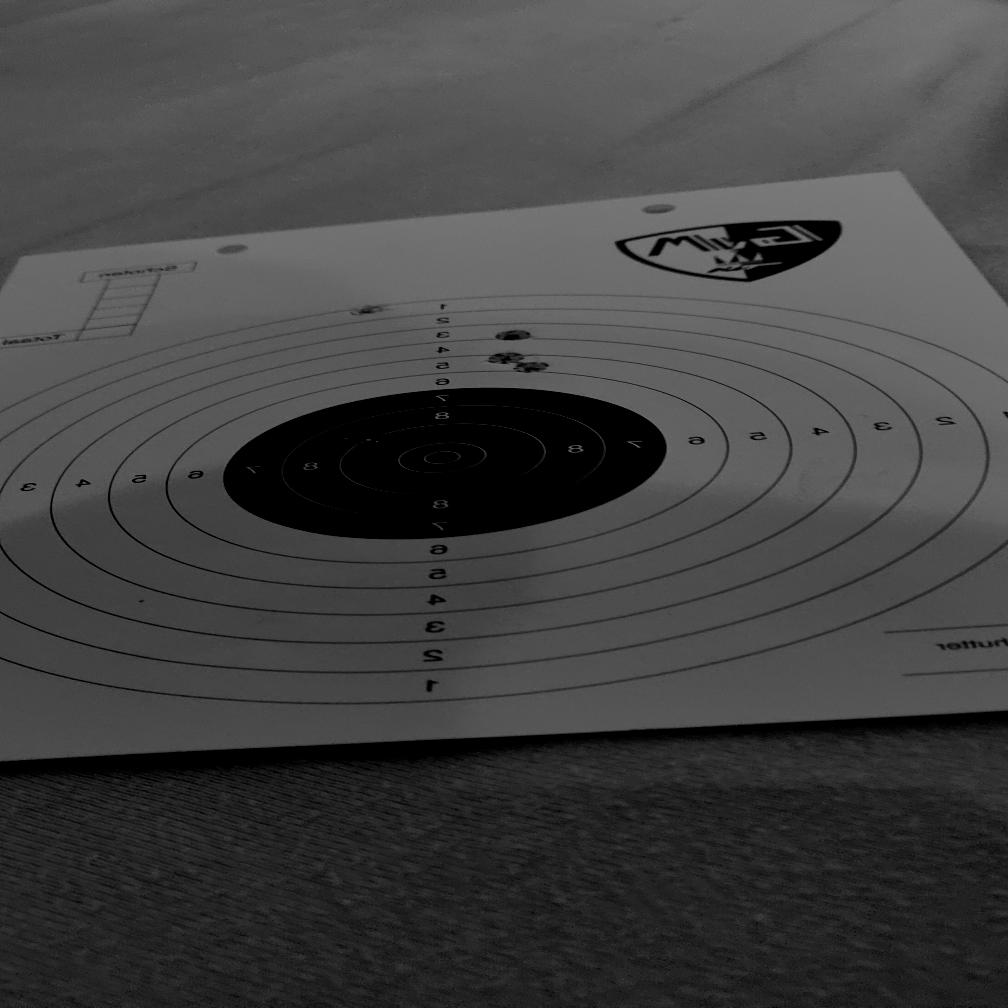1: (348, 303, 385, 318)
3: (494, 328, 534, 343)
5: (486, 350, 522, 366)
6: (513, 360, 549, 374)
9: (336, 425, 403, 451)
Target: (0, 293, 1008, 706)
black_contour: (222, 386, 665, 541)
